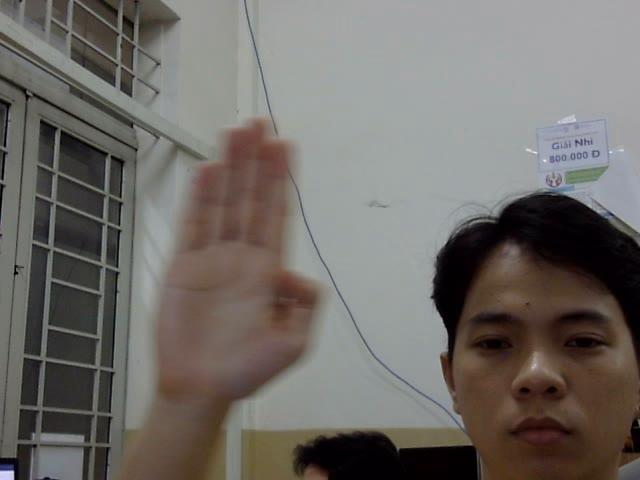B: (149, 103, 334, 399)
